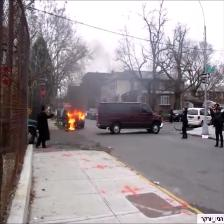smoke: (59, 106, 96, 136)
